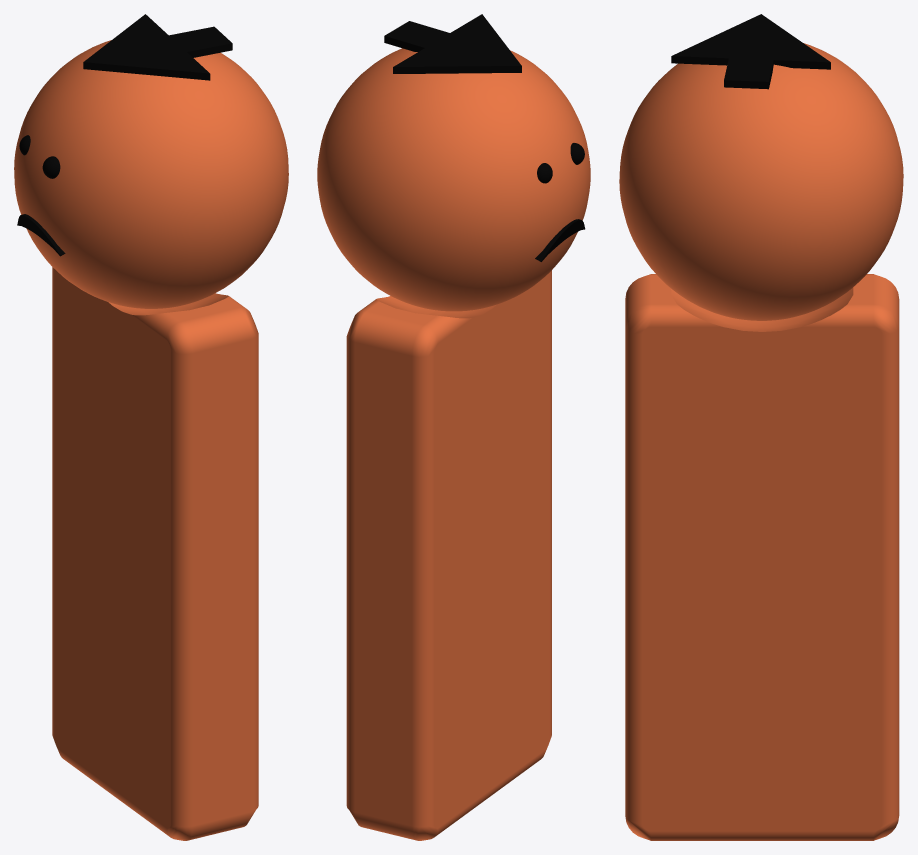
Rendered from beige_sad.obj.
3 views of the same model, side by side, from view 1: azimuth 30°, elevation 25°; view 2: azimuth 150°, elevation 25°; view 3: azimuth 270°, elevation 25° (orthographic). The views are drawn at different scales.
Parts seen in each view (by area): view 1: 1_Curve.002_Curve.002, 5.002_Curve.002_Curve.003_5.002_Curve.002_Curve.001; view 2: 1_Curve.002_Curve.002, 5.002_Curve.002_Curve.003_5.002_Curve.002_Curve.001; view 3: 1_Curve.002_Curve.002, 5.002_Curve.002_Curve.003_5.002_Curve.002_Curve.001.
Part boxes in pixels (x1,y1,x2,y2): 1_Curve.002_Curve.002: [14, 40, 288, 840]; 5.002_Curve.002_Curve.003_5.002_Curve.002_Curve.001: [17, 14, 232, 256]; 1_Curve.002_Curve.002: [317, 48, 590, 840]; 5.002_Curve.002_Curve.003_5.002_Curve.002_Curve.001: [384, 14, 585, 261]; 1_Curve.002_Curve.002: [619, 43, 903, 840]; 5.002_Curve.002_Curve.003_5.002_Curve.002_Curve.001: [671, 14, 830, 89].
Size of the model in its own units: 0.1677 by 0.4993 by 0.1661.
